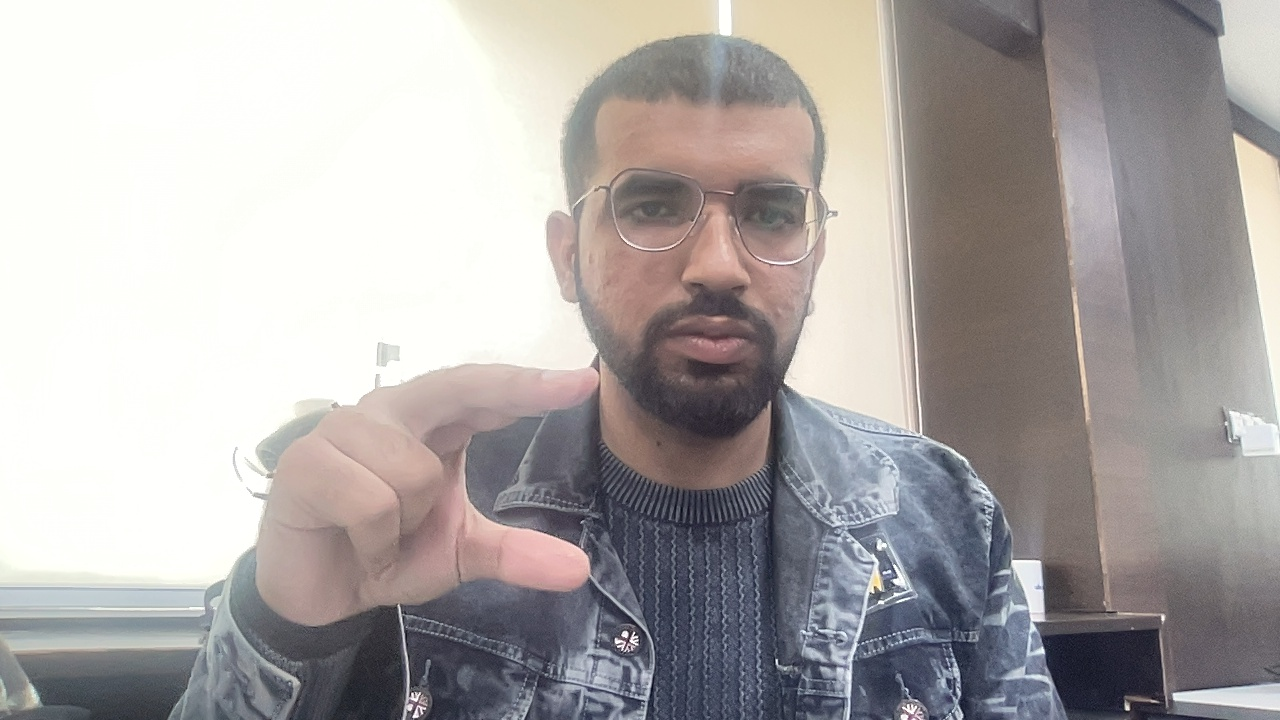No: (220, 335, 597, 627)
